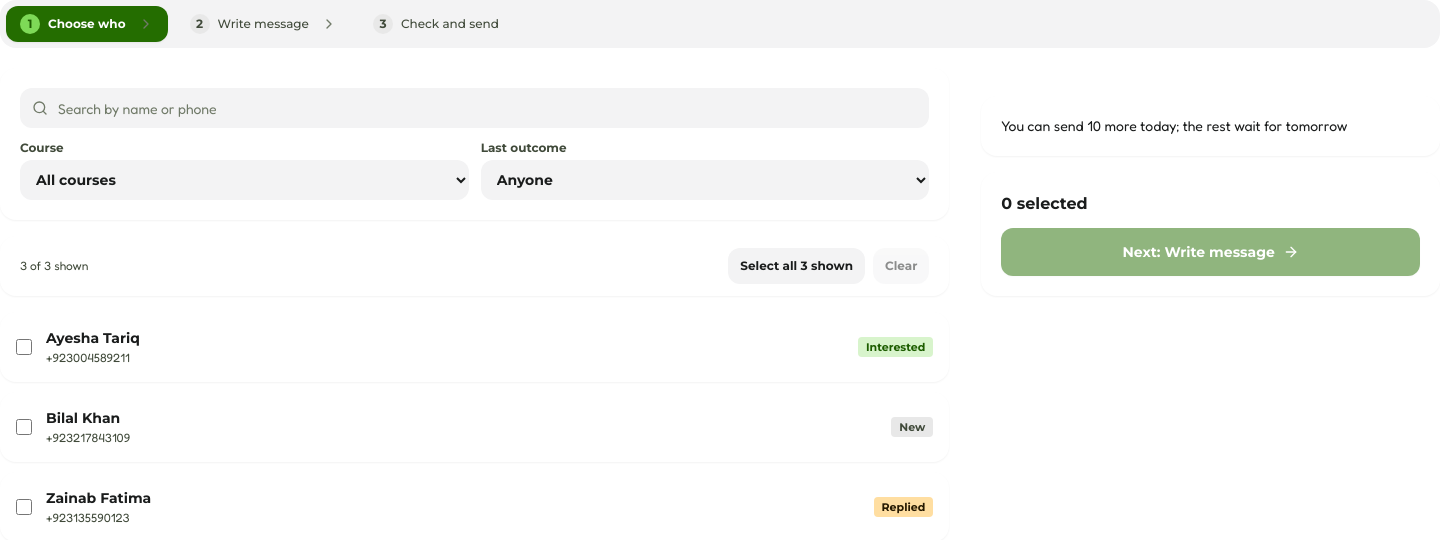
Scenario: CampaignWizard step 1 › course and outcome selects narrow rows, with options from the data
Select "Clinical Pharmacy" in the dropdown labelled "Course" at point(244, 180), box [20,160,469,200]
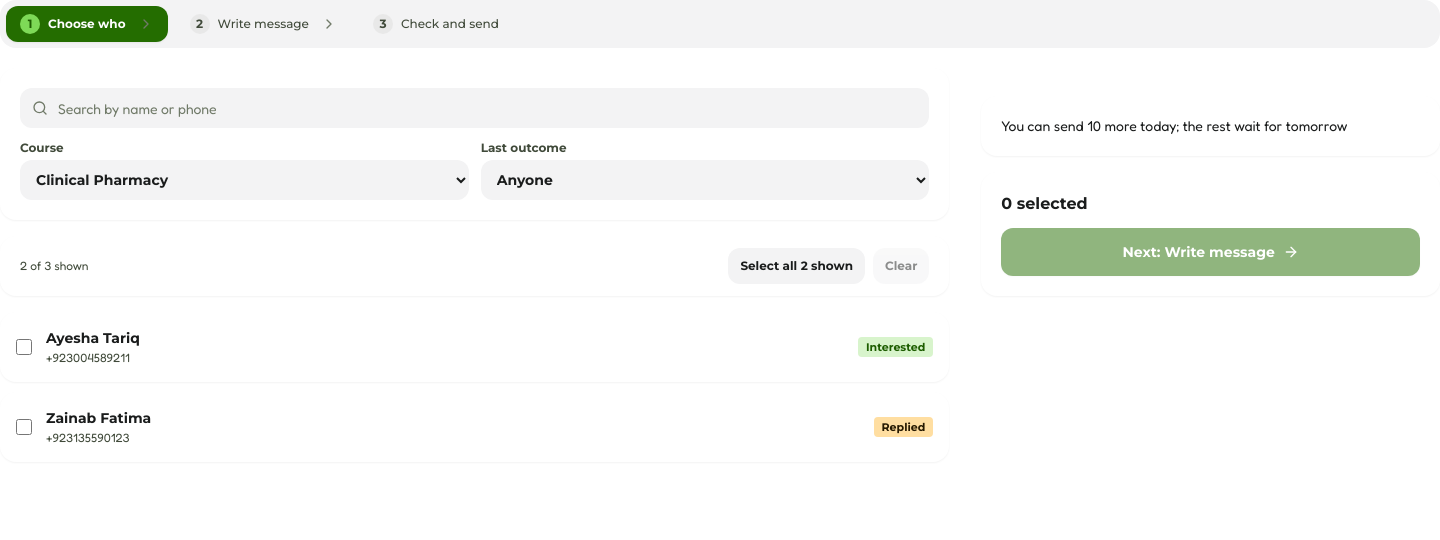
Expected: the text "Bilal Khan" is not shown
Select "Replied" in the dropdown labelled "Last outcome" at point(705, 180), box [481,160,929,200]
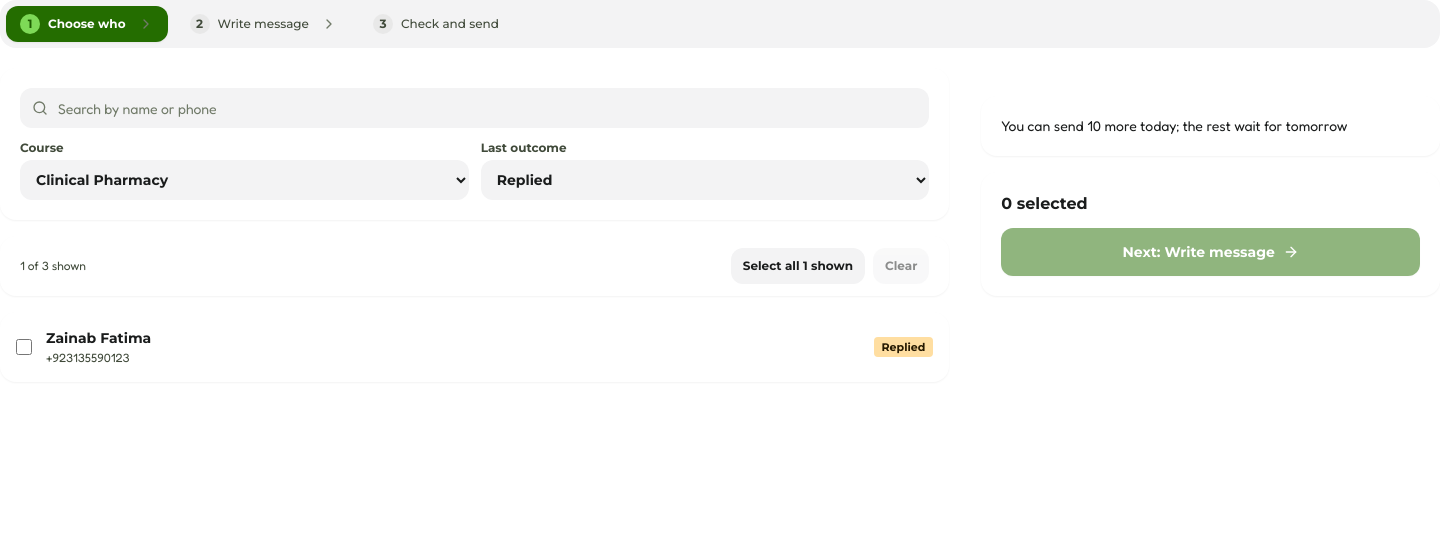
Expected: the text "Ayesha Tariq" is not shown
